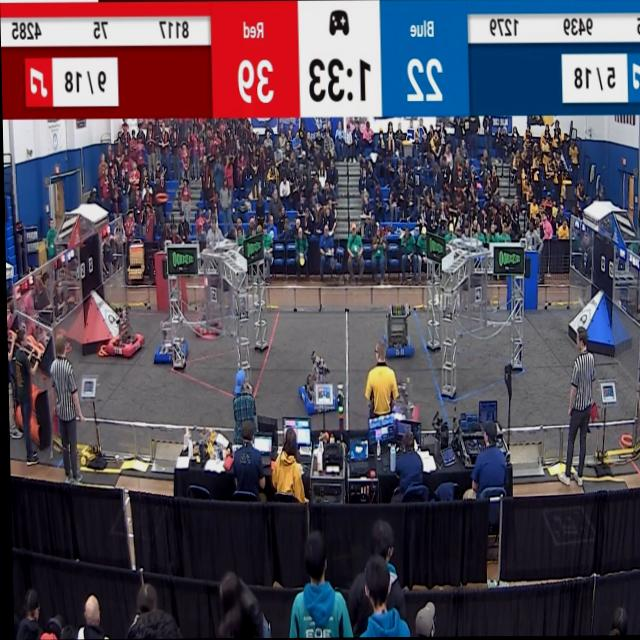Robot: (293, 348, 333, 419), (374, 302, 411, 364), (107, 300, 144, 362), (189, 275, 221, 342), (384, 372, 417, 432), (151, 317, 187, 372)
